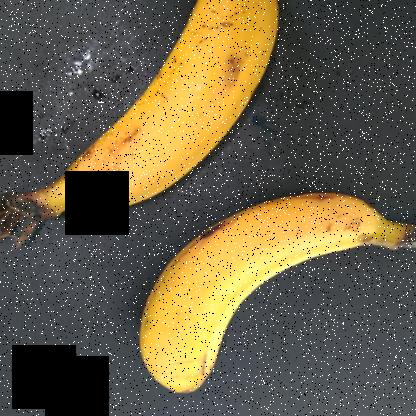freshripe: (136, 186, 415, 403)
ripe: (55, 1, 313, 227)
